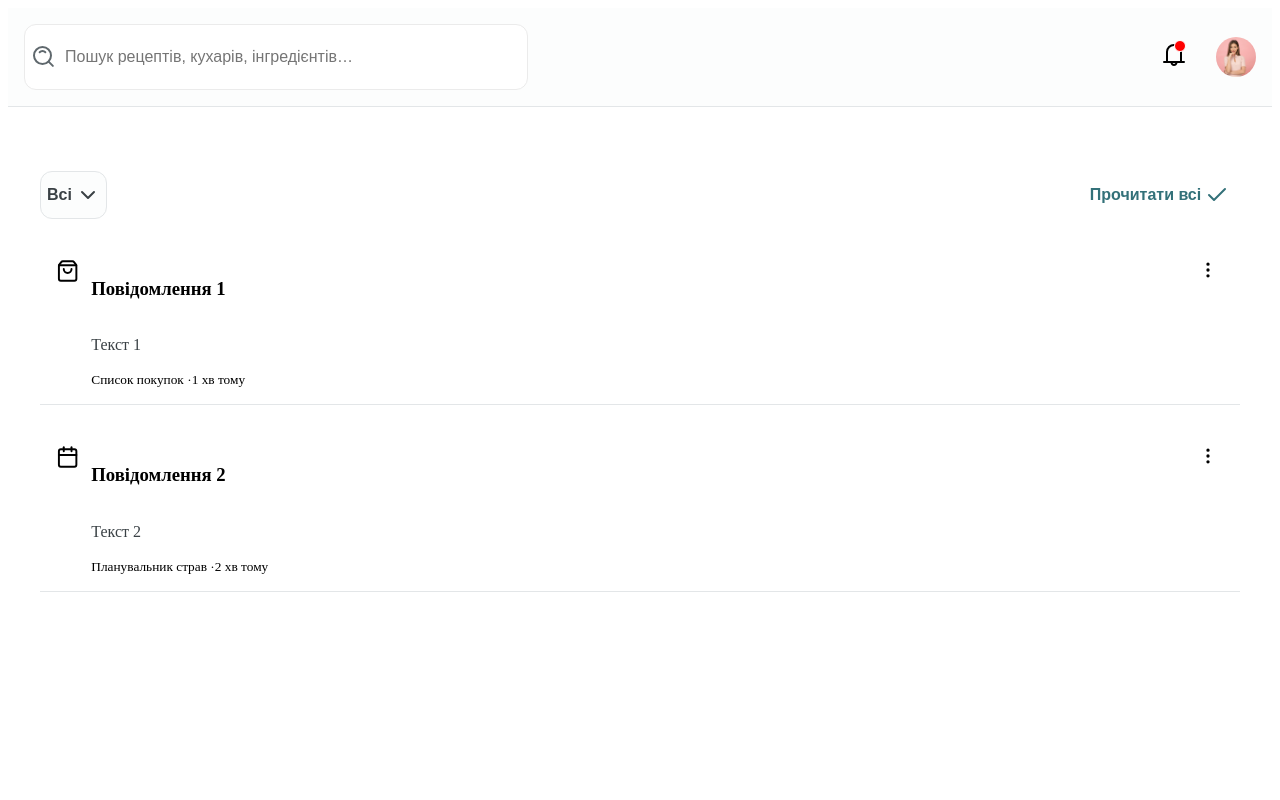
Test: MessagesPage › кнопка меню показывает меню и можно удалить сообщение
The width and height of the screenshot is (1280, 800).
Click the button with test id "menu-btn-1". click: (1208, 272)
box: left=1192, top=259, right=1224, bottom=284
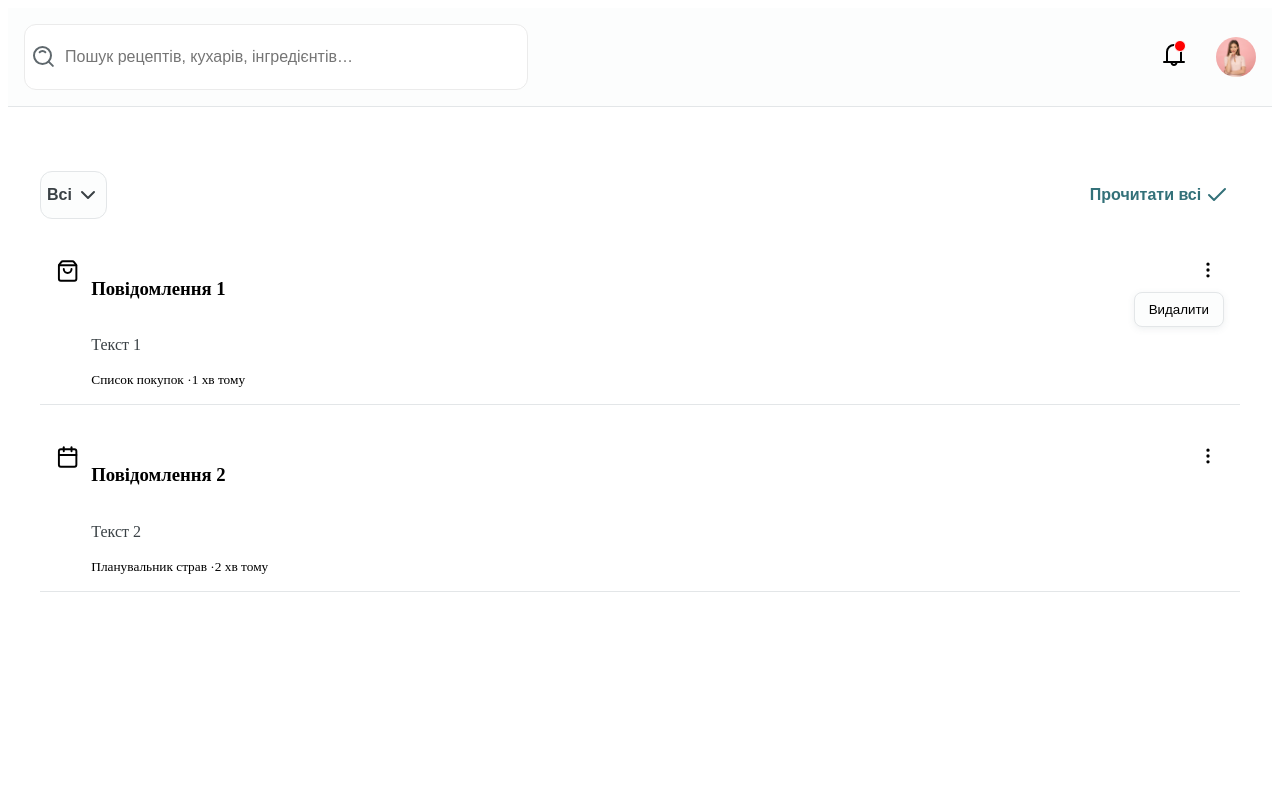
Click the button "Видалити". click: (1179, 310)
box: left=1143, top=301, right=1215, bottom=318
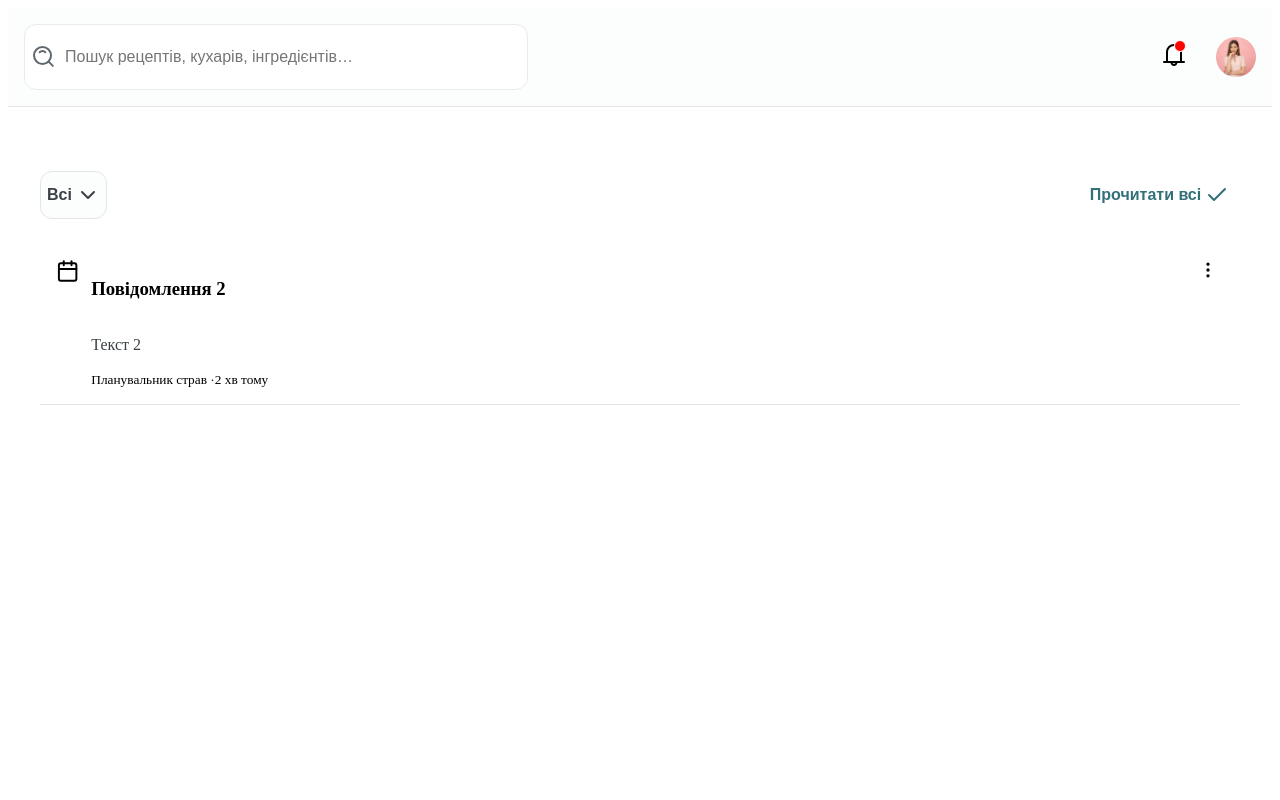
Now the heading "Повідомлення 1" is gone
